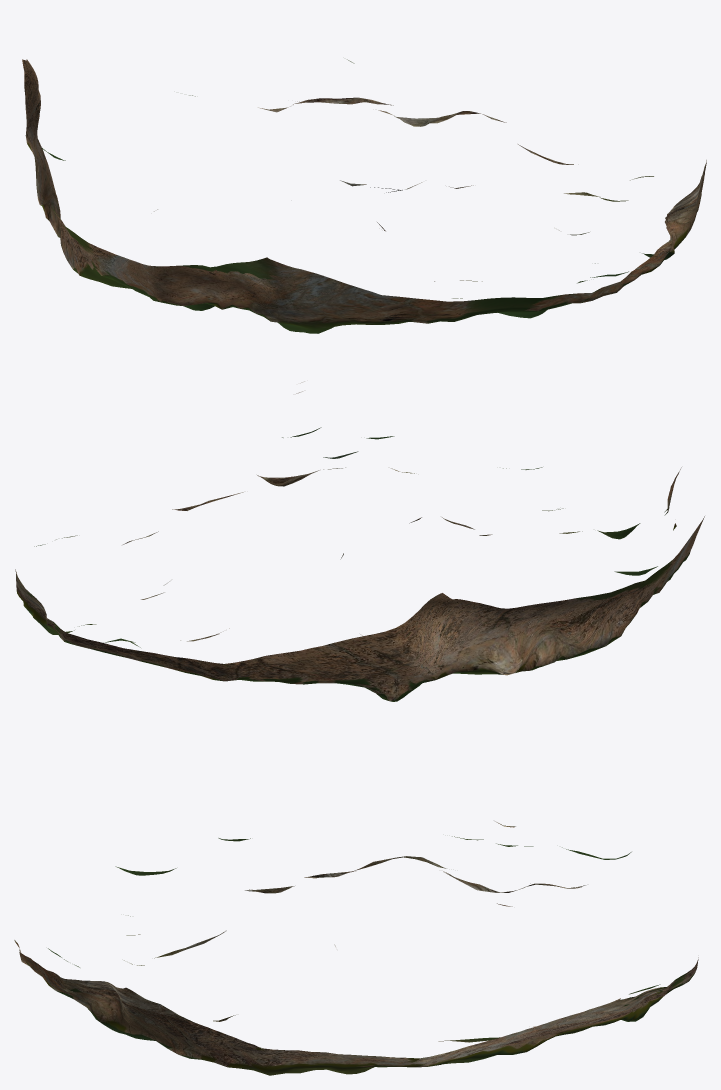
The model's file is bitartıııkkk.glb.
3 renders of one model, top to bottom at view 1: azimuth 30°, elevation 25°; view 2: azimuth 150°, elevation 25°; view 3: azimuth 270°, elevation 25°, orthographic. The views are drawn at different scales.
Visible parts, largest first — view 1: Object_2; view 2: Object_2; view 3: Object_2.
Part boxes in pixels (x1,y1,x2,y2): Object_2: [22, 59, 706, 333]; Object_2: [15, 381, 704, 701]; Object_2: [14, 821, 698, 1075].
Size of the model in its own units: 352 by 70.78 by 364.
1 material, 1 textured.
